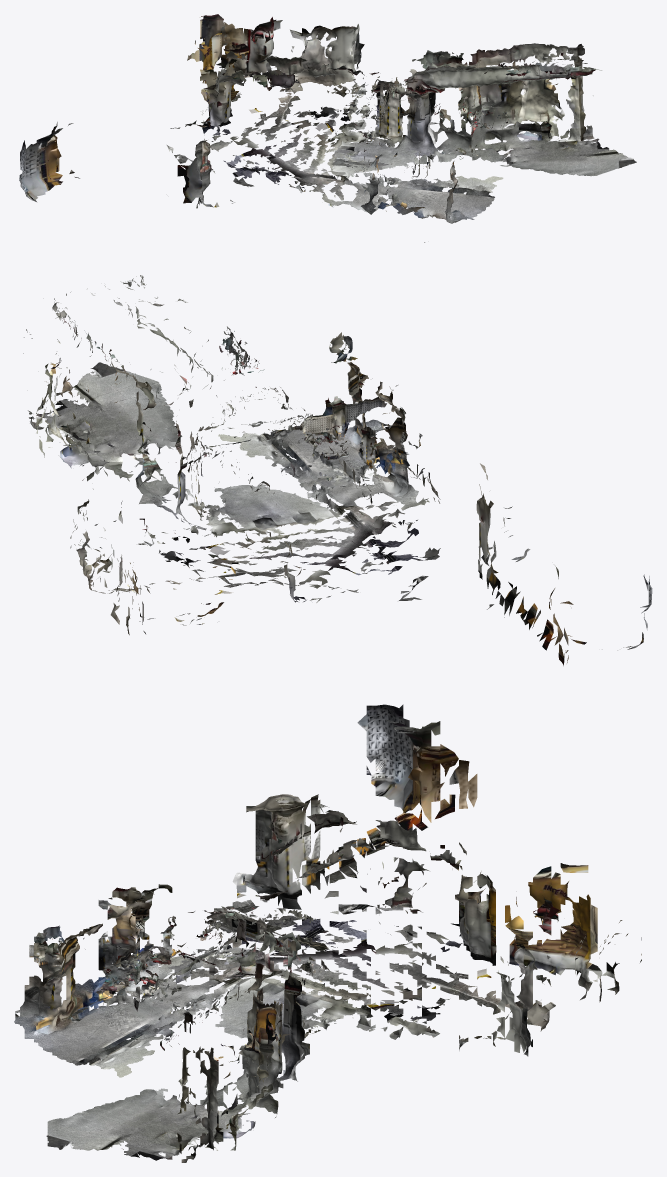
Rendered from 139857-jenazahdepan2-tex.glb.
3 views of the same model, one above another, from view 1: azimuth 30°, elevation 25°; view 2: azimuth 150°, elevation 25°; view 3: azimuth 270°, elevation 25° (orthographic). The views are drawn at different scales.
Visible parts, largest first — view 1: Node; view 2: Node; view 3: Node.
Part boxes in pixels (x1,y1,x2,y2): Node: (19, 14, 636, 242); Node: (23, 275, 652, 665); Node: (14, 704, 641, 1162).
Bounding box in the file's own units: 8364 × 2174 × 6014.
29 materials, 29 textured.
